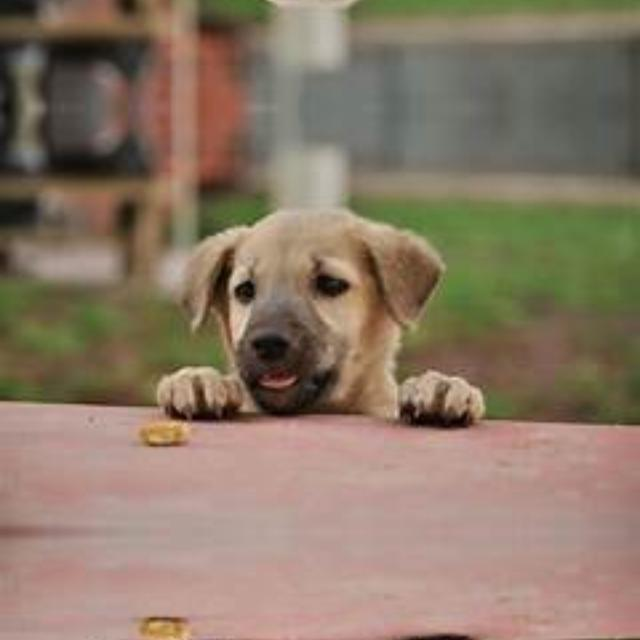dog: (178, 170, 467, 452), (177, 0, 466, 45), (177, 612, 466, 640)
